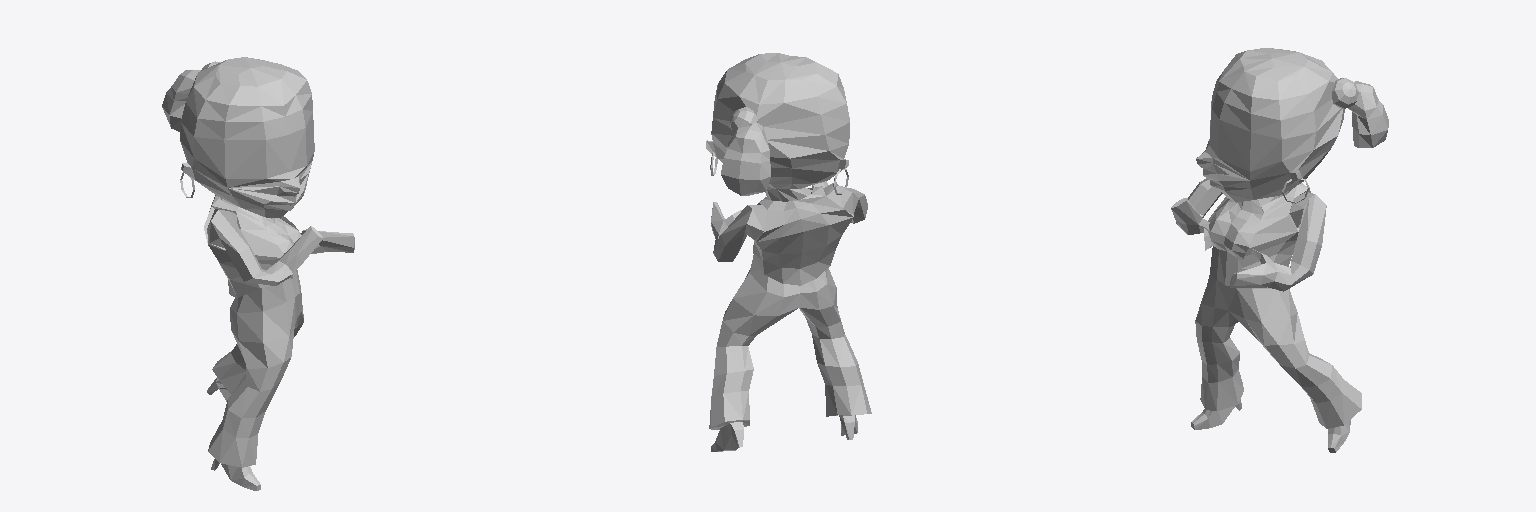
Rendered from bailarina_000026.obj.
3 views of the same model, side by side, from view 1: azimuth 30°, elevation 25°; view 2: azimuth 150°, elevation 25°; view 3: azimuth 270°, elevation 25° (orthographic).
Visible parts, largest first — view 1: bAilarina:Mesh; view 2: bAilarina:Mesh; view 3: bAilarina:Mesh.
Part boxes in pixels (x1,y1,x2,y2): bAilarina:Mesh: (162, 57, 354, 490); bAilarina:Mesh: (706, 53, 871, 451); bAilarina:Mesh: (1171, 48, 1388, 452).
Bounding box in the file's own units: 7.09 × 16.98 × 8.7.